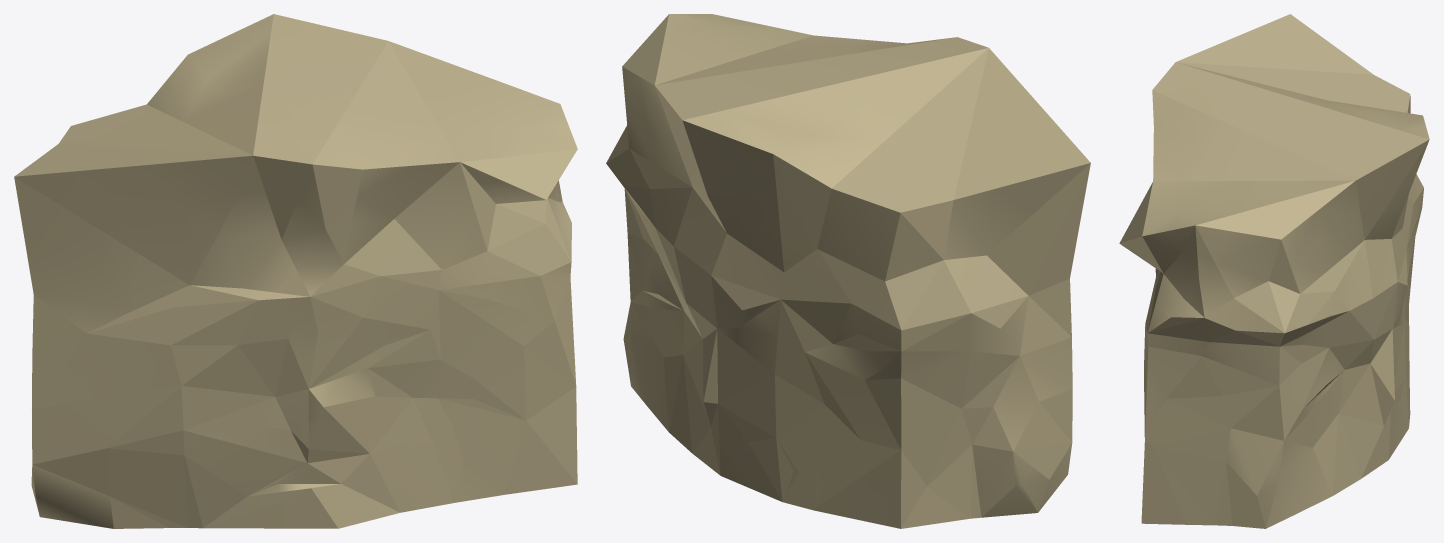
File: HighCliff.fbx
3 views of the same model, side by side, from view 1: azimuth 30°, elevation 25°; view 2: azimuth 150°, elevation 25°; view 3: azimuth 270°, elevation 25° (orthographic). The views are drawn at different scales.
Visible parts, largest first — view 1: BackgroundCliff6; view 2: BackgroundCliff6; view 3: BackgroundCliff6.
Boxes of the visible parts, x1,y1,x2,y2 form: BackgroundCliff6: [14, 14, 577, 528]; BackgroundCliff6: [606, 14, 1090, 528]; BackgroundCliff6: [1119, 14, 1429, 528].
Bounding box in the file's own units: 43.69 × 32.2 × 27.12.
